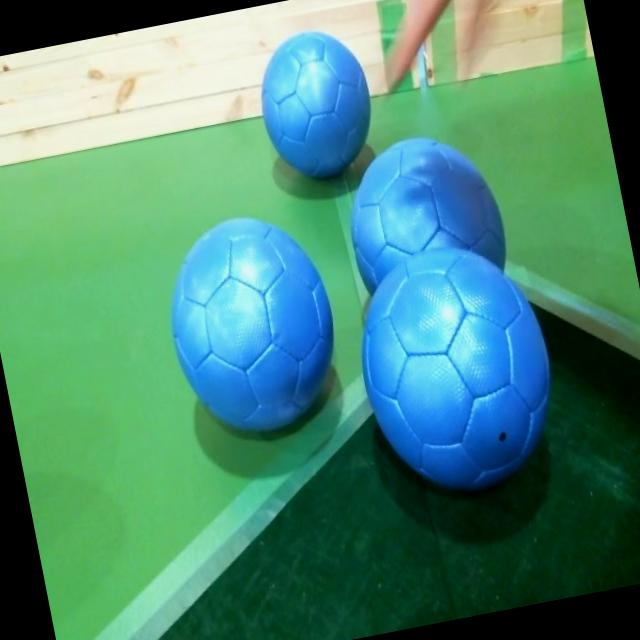blue_ball: (338, 231, 572, 508), (149, 202, 356, 452), (336, 126, 517, 310), (249, 19, 385, 190)
